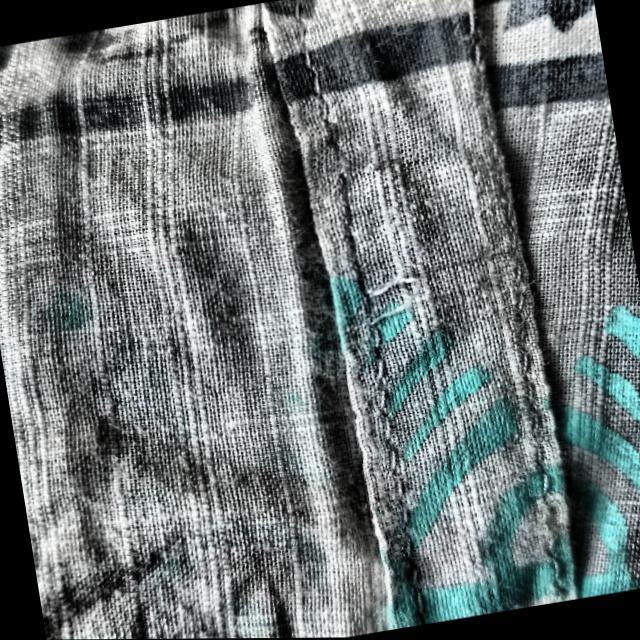Stitch: (302, 228, 496, 379)
